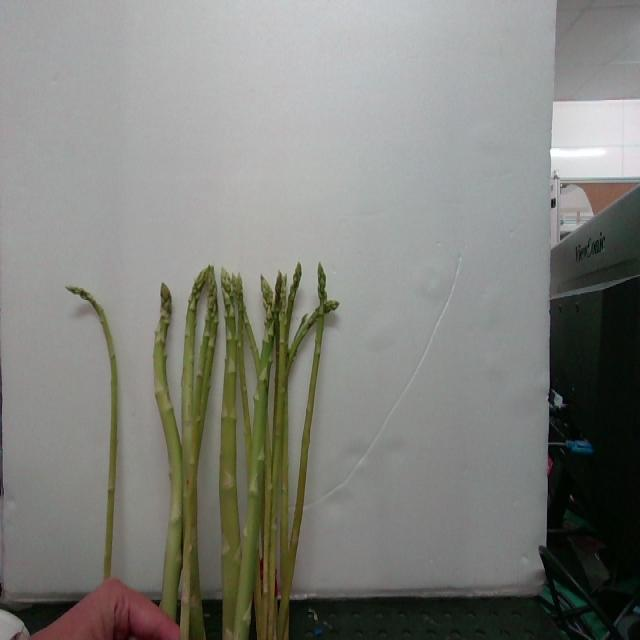aspargus: (64, 285, 124, 587), (153, 281, 184, 625)
